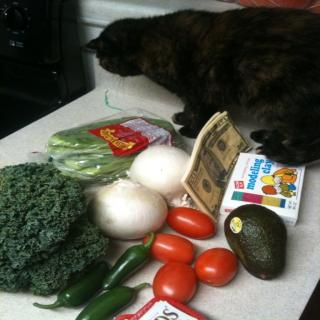tomato: (152, 260, 198, 301), (196, 248, 237, 288), (142, 234, 198, 263), (166, 209, 217, 240)
